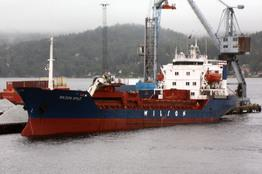Cargoship: (10, 36, 240, 142)
